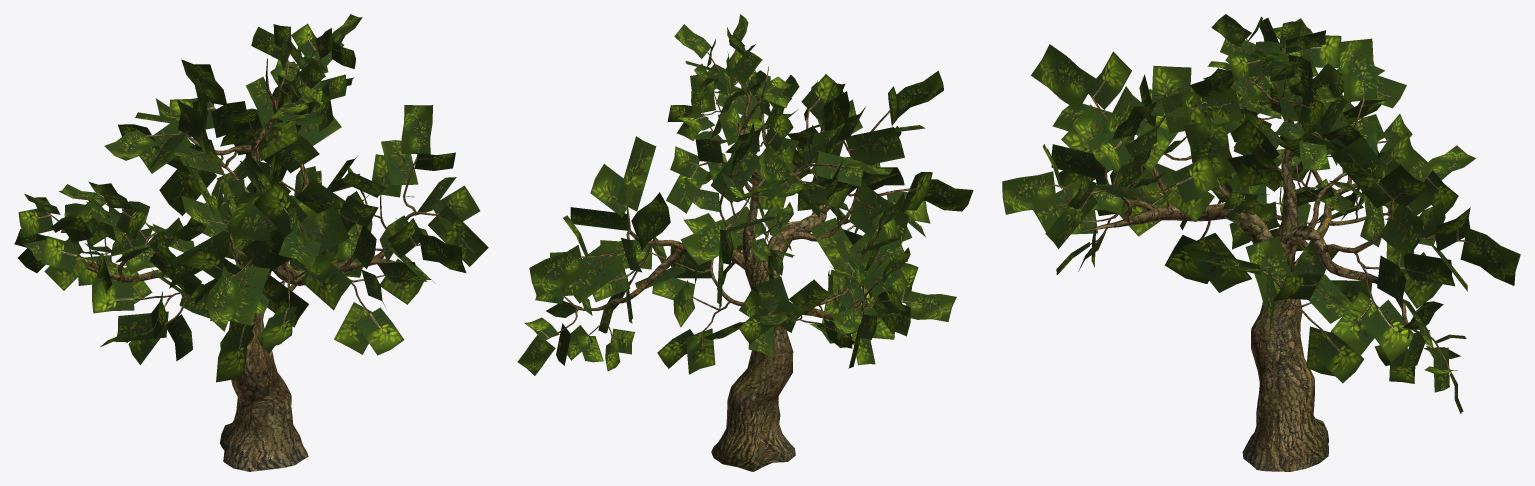
File: Tree_B_high.FBX
3 renders of one model, left to right at view 1: azimuth 30°, elevation 25°; view 2: azimuth 150°, elevation 25°; view 3: azimuth 270°, elevation 25°, orthographic. The views are drawn at different scales.
Visible parts, largest first — view 1: Tree_B_high; view 2: Tree_B_high; view 3: Tree_B_high.
Part boxes in pixels (x1,y1,x2,y2): Tree_B_high: [14, 14, 488, 471]; Tree_B_high: [517, 14, 973, 471]; Tree_B_high: [1002, 14, 1520, 471].
Bounding box in the file's own units: 733 × 834 × 852.
